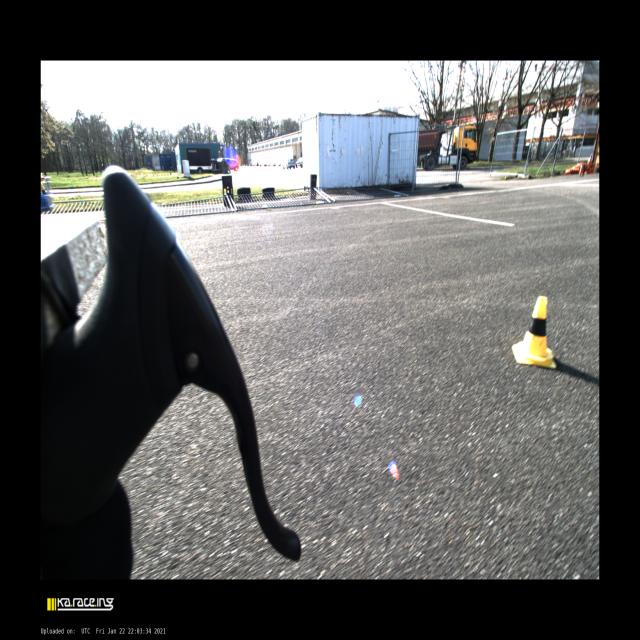yellow_cone: (512, 296, 556, 368)
